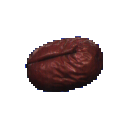ng: (21, 31, 109, 96)
